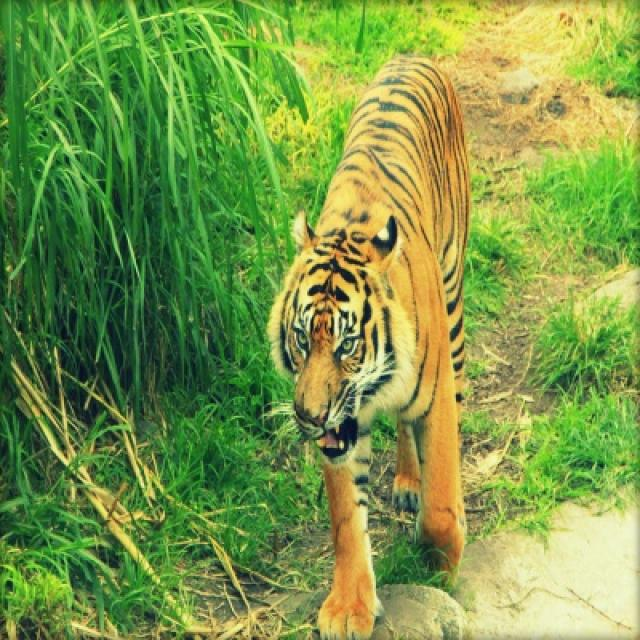Tiger: (267, 58, 469, 638)
